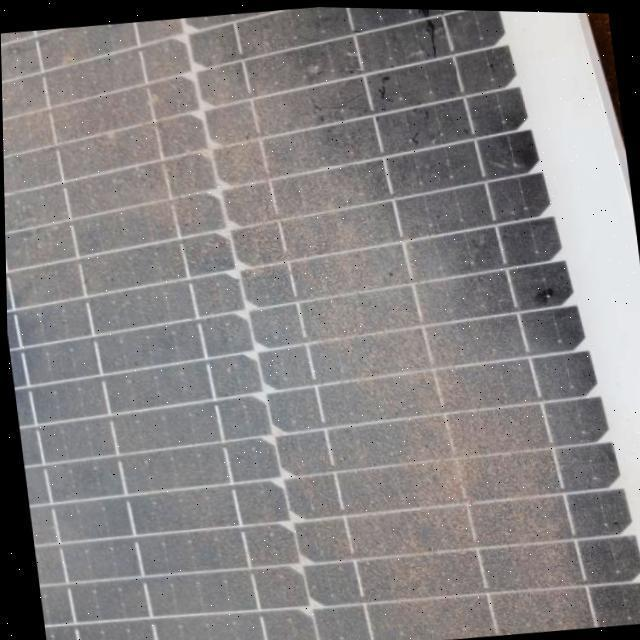Anomaly Solar Panel: (0, 0, 640, 640)
Surface Contaminant: (1, 5, 630, 640)
